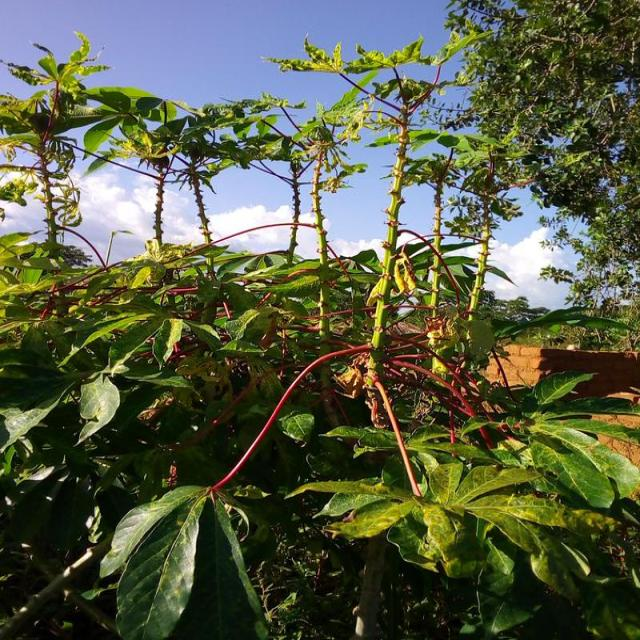cassava leaf: (99, 483, 269, 638)
